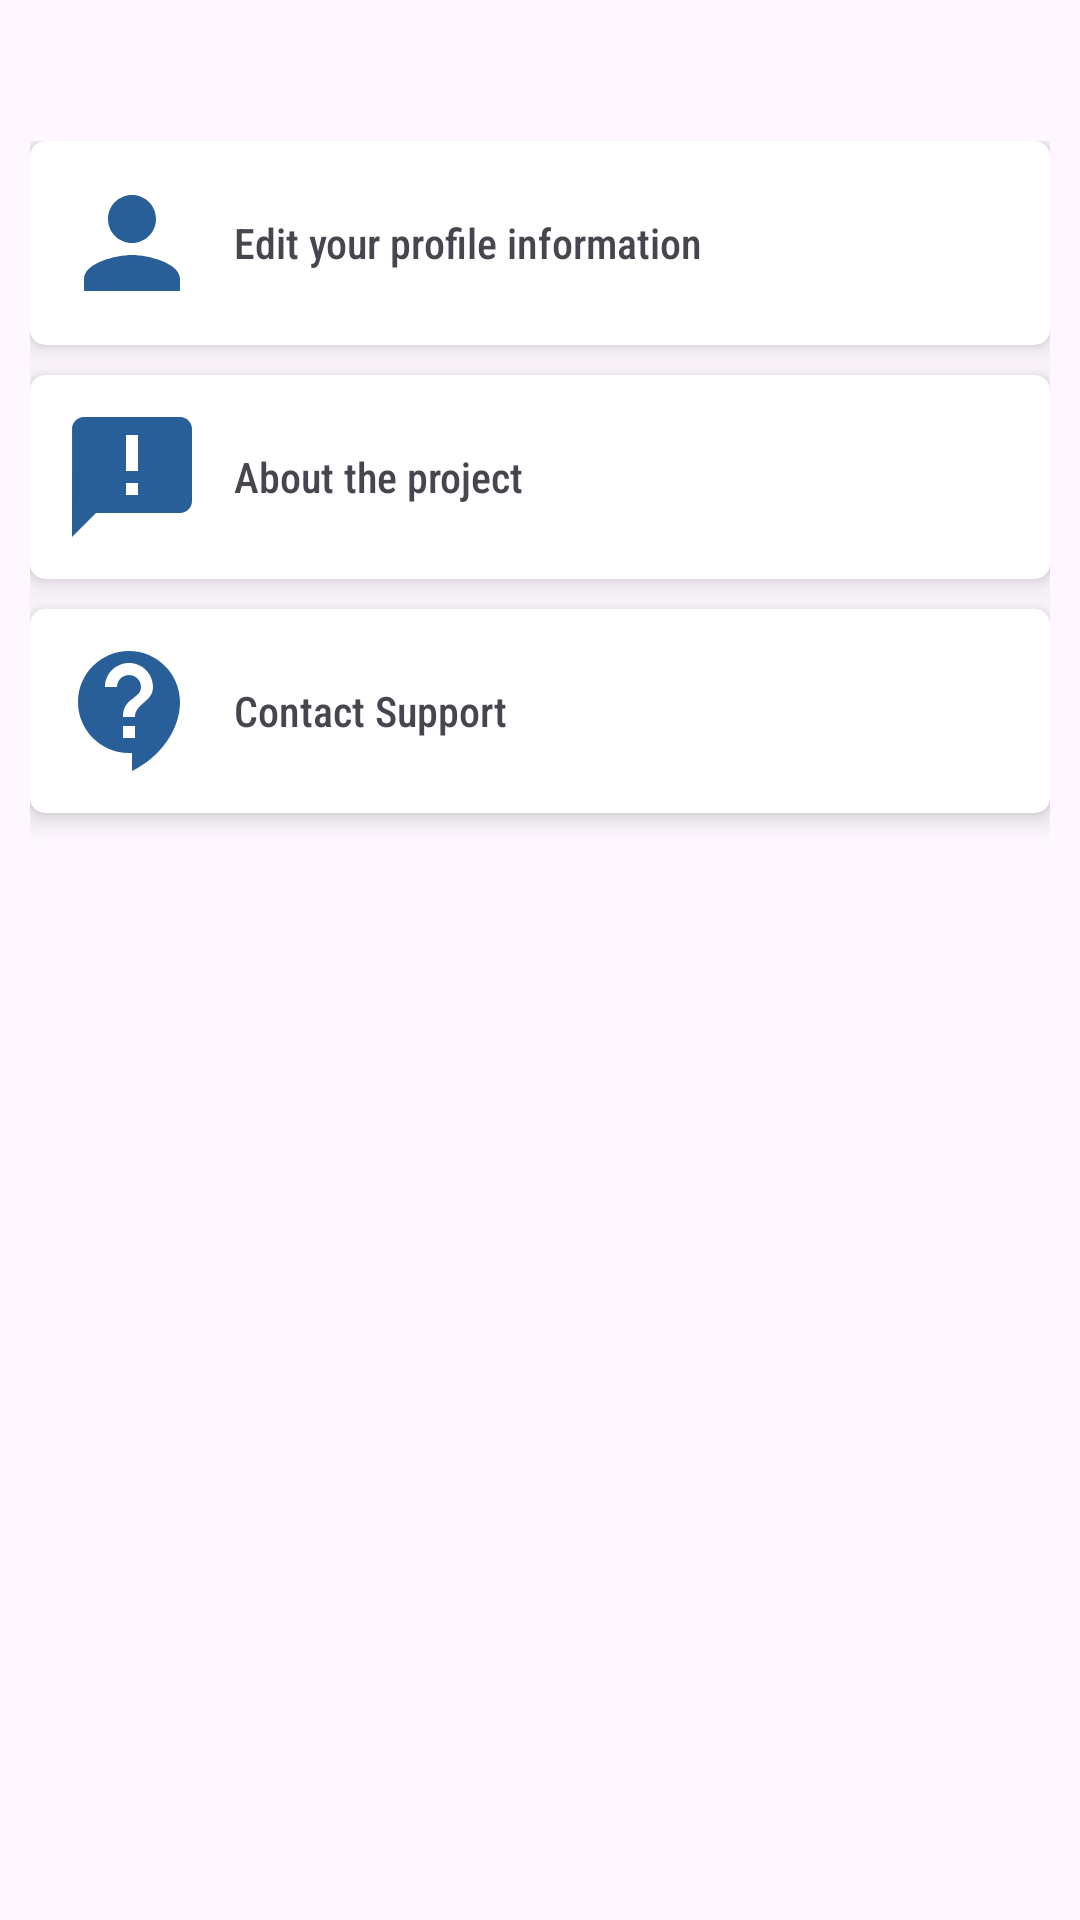

Icon bounding boxes for this 1080 × 1920 phone screenshot, format bbox=(x1, y1, x2, y2):
announcement: bbox=(72, 417, 192, 537)
person: bbox=(84, 195, 180, 291)
